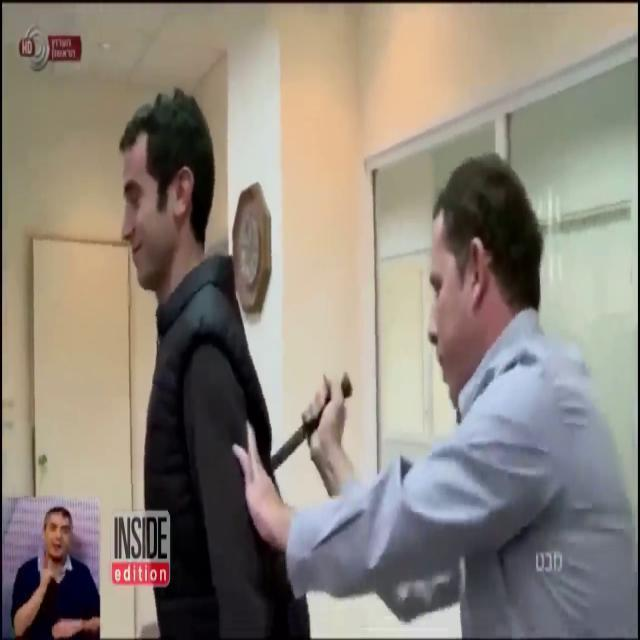Knife: (264, 372, 357, 484)
